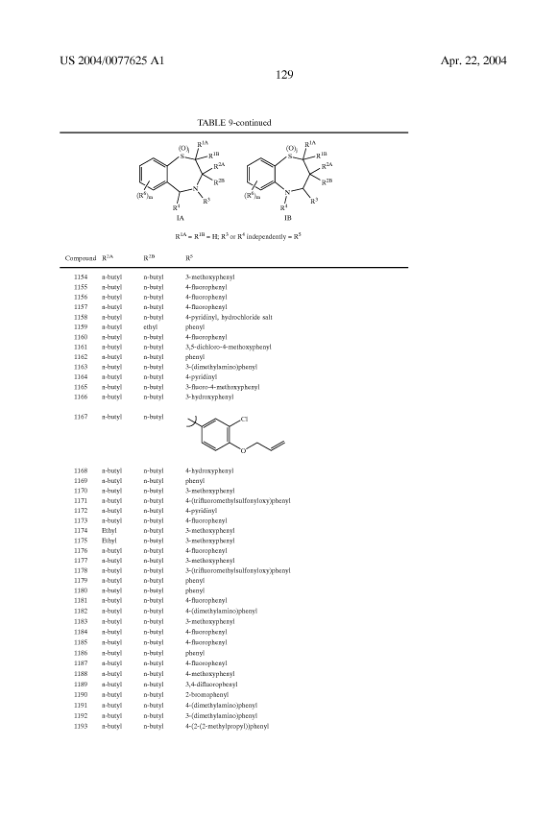compound-structure: (240, 135, 336, 225), (135, 138, 230, 224), (179, 409, 292, 460)
